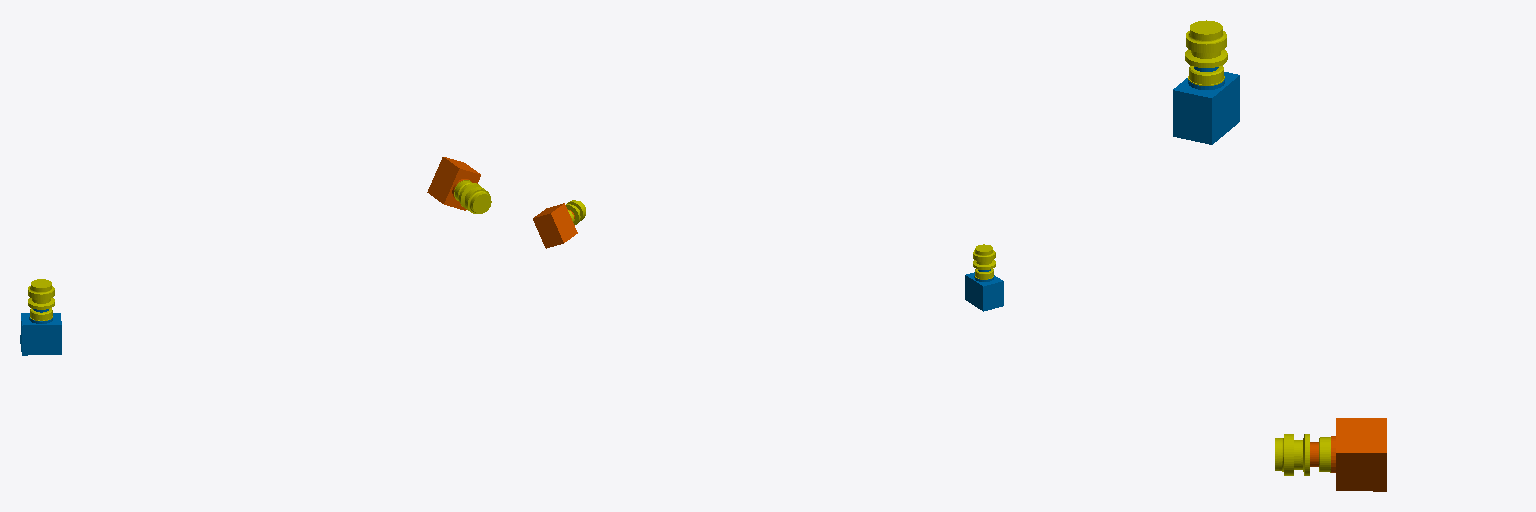
robot.urdf — Krang:
<?xml version="1.0" ?>
<!-- @file Krang.urdf -->
<!-- @author [author] -->
<!-- @date May 10, 2013 -->
<!-- @brief This file contains the .urdf definition for Krang. -->
<!-- NOTE: The center of mass locations are taken from the MassTable by summing up the -->
<!-- individual part values for the sections (which correspond to nodes here). -->
<!-- TODO: Set the center of mass locations -->
<!-- TODO: Set the correct masses. Note that the dae models have the brackets divided in two and -->
<!-- connected to the middle motor for which we do not have measurements. -->
<!-- NOTE: The bounding box values are taken by finding the min and max values of the dae files. -->

<robot name="Krang">

	<!-- Links -->

	<link name = "LWheel"> 
    <inertial>
      <mass value="4.66"/>
      <inertia ixx="0.102019" ixy="2.45462e-05" ixz="0.00713022" iyy="0.0832724" iyz="-0.00131733" izz="0.086493"/>
      <origin xyz="0 0 0"/>
    </inertial>
		<visual> <geometry> <mesh filename="Base/oldwheel.dae" /> </geometry> </visual> 
		<collision> <geometry> <mesh filename="Base/oldwheel.dae" /> </geometry> </collision> 
	</link>

	<link name = "RWheel"> 
    <inertial>
      <mass value="4.66"/>
      <inertia ixx="0.102019" ixy="2.45462e-05" ixz="0.00713022" iyy="0.0832724" iyz="-0.00131733" izz="0.086493"/>
      <origin xyz="0 0 0"/>
    </inertial>
		<visual> <geometry> <mesh filename="Base/oldwheel.dae" /> </geometry> </visual> 
		<collision> <geometry> <mesh filename="Base/oldwheel.dae" /> </geometry> </collision> 
	</link>

	<link name = "Base"> 
    <inertial>
      <mass value="81.856"/>
      <inertia ixx="0.102019" ixy="2.45462e-05" ixz="0.00713022" iyy="0.0832724" iyz="-0.00131733" izz="0.086493"/>
      <origin xyz="-0.00336451 0.107572 -0.00636184"/>
    </inertial>
		<visual> <geometry> <mesh filename="base.dae" /> </geometry> </visual> 
		<collision> <origin xyz="0.00225 0.2097395 0.006300"/> <geometry> <box size="0.7165 0.71048 0.32860"/> </geometry> </collision> 
	</link>

	<link name = "Spine"> 
    <inertial>
      <mass value="10.302"/>
      <inertia ixx="0.102019" ixy="2.45462e-05" ixz="0.00713022" iyy="0.0832724" iyz="-0.00131733" izz="0.086493"/>
			<!-- an offset of -0.02937 is added due to bad dae file and to align with base com -->
      <origin xyz="-0.02937 0.285314 0.0974926"/>
    </inertial>
		<visual> <geometry> <mesh filename="spine.dae" /> </geometry> </visual> 
		<collision> <origin xyz="-0.026 0.230150 0.053887"/> <geometry> <box size="0.2340 0.59430 0.24097"/> </geometry> </collision> 
	</link>

	<link name = "Bracket"> 
    <inertial>
      <mass value="10.17"/>
      <inertia ixx="0.102019" ixy="2.45462e-05" ixz="0.00713022" iyy="0.0832724" iyz="-0.00131733" izz="0.086493"/>
			<!-- offseted with 0.0827 because the origin of the bracket is at the bottom -->
      <origin xyz="0 0.080606 -0.00314267"/>
    </inertial>
		<visual> <geometry> <mesh filename="bracket.dae" /> </geometry> </visual> 
		<collision> <origin xyz="0.0012875 0.0582 -0.0280530"/> <geometry> <box size="0.2815 0.23 0.22611"/> </geometry> </collision> 
	</link>

	<link name = "Kinect"> 
    <inertial>
      <mass value="0.705"/>
      <inertia ixx="0.102019" ixy="2.45462e-05" ixz="0.00713022" iyy="0.0832724" iyz="-0.00131733" izz="0.086493"/>
      <origin xyz="0.0 -0.04 -0.028"/>
    </inertial>
		<visual> <geometry> <mesh filename="Kinect/Kinect.dae" /> </geometry> </visual> 
		<collision> <origin xyz="0.0 -0.0251 -0.0185"/> <geometry> <box size="0.28 0.07 0.063"/> </geometry> </collision> 
	</link>

	<link name = "L1"> 
    <inertial>
      <mass value="3.836"/>
      <inertia ixx="0.102019" ixy="2.45462e-05" ixz="0.00713022" iyy="0.0832724" iyz="-0.00131733" izz="0.086493"/>
      <origin xyz="0.0063626 -0.00725706 0"/>
    </inertial>
		<visual> <geometry> <mesh filename="Schunk/L1.dae" /> </geometry> </visual> 
		<collision> <origin xyz="0.015 -0.080866 0.0"/> <geometry> <box size="0.16 0.29367 0.13188"/> </geometry> </collision> 
	</link>

	<link name = "L2"> 
    <inertial>
      <mass value="2.385"/>
      <inertia ixx="0.102019" ixy="2.45462e-05" ixz="0.00713022" iyy="0.0832724" iyz="-0.00131733" izz="0.086493"/>
      <origin xyz="0.0101136 -0.15332 0"/>
    </inertial>
		<visual> <geometry> <mesh filename="Schunk/L2.dae" /> </geometry> </visual> 
		<collision> <origin xyz="0.017042 -0.058309 0.0"/> <geometry> <box size="0.14591 0.24658 0.13"/> </geometry> </collision> 
	</link>

	<link name = "L3"> 
    <inertial>
      <mass value="2.306"/>
      <inertia ixx="0.102019" ixy="2.45462e-05" ixz="0.00713022" iyy="0.0832724" iyz="-0.00131733" izz="0.086493"/>
      <origin xyz="0.0071222 -0.00803823 0"/>
    </inertial>
		<visual> <geometry> <mesh filename="Schunk/L3.dae" /> </geometry> </visual> 
		<collision> <origin xyz="0.014000 -0.075113 0.0"/> <geometry> <box size="0.13800 0.26217 0.11189"/> </geometry> </collision> 
	</link>

	<link name = "L4"> 
    <inertial>
      <mass value="1.477"/>
      <inertia ixx="0.102019" ixy="2.45462e-05" ixz="0.00713022" iyy="0.0832724" iyz="-0.00131733" izz="0.086493"/>
      <origin xyz="0.0115211 -0.1255 0"/>
    </inertial>
		<visual> <geometry> <mesh filename="Schunk/L4.dae" /> </geometry> </visual> 
		<collision> <origin xyz="0.018200 -0.052050 0.0"/> <geometry> <box size="0.12960 0.2141 0.11"/> </geometry> </collision> 
	</link>

	<link name = "L5"> 
    <inertial>
      <mass value="1.369"/>
      <inertia ixx="0.102019" ixy="2.45462e-05" ixz="0.00713022" iyy="0.0832724" iyz="-0.00131733" izz="0.086493"/>
      <origin xyz="0.00705037 -0.00747172 0"/>
    </inertial>
		<visual> <geometry> <mesh filename="Schunk/L5.dae" /> </geometry> </visual> 
		<collision> <origin xyz="0.0145115 -0.0571105 0.0000425"/> <geometry> <box size="0.117977 0.204179 0.089915"/> </geometry> </collision> 
	</link>

	<link name = "L6"> 
    <inertial>
      <mass value="1.47"/>
      <inertia ixx="0.102019" ixy="2.45462e-05" ixz="0.00713022" iyy="0.0832724" iyz="-0.00131733" izz="0.086493"/>
      <origin xyz="0.0105523 -0.117163 0"/>
    </inertial>
		<visual> <geometry> <mesh filename="Schunk/L6.dae" /> </geometry> </visual> 
		<collision> <origin xyz="0.0175015 -0.0481615 0.0"/> <geometry> <box size="0.111977 0.185277 0.089"/> </geometry> </collision> 
	</link>

	<link name = "lGripper"> 
    <inertial>
      <mass value="2.3"/>
      <inertia ixx="0.102019" ixy="2.45462e-05" ixz="0.00713022" iyy="0.0832724" iyz="-0.00131733" izz="0.086493"/>
			<!-- An addition of 4.05 cms from the end of Schunk gripper to space between two halves of ft -->
      <origin xyz="0 0 0.1055"/>
    </inertial>
		<visual> <geometry> <mesh filename="Schunk/L7.dae" /> </geometry> </visual> 
		<collision> <origin xyz="0.0 -0.0 0.02615" rpy="0.0 0.0 1.5708"/> <geometry> <box size="0.08 0.112 0.2025"/> </geometry> </collision> 
	</link>

	<link name = "lgPlate1">
    <inertial> 
      <inertia ixx="0.102019" ixy="2.45462e-05" ixz="0.00713022" iyy="0.0832724" iyz="-0.00131733" izz="0.086493"/>
			<mass value="0.0001"/> </inertial>
		<visual> <geometry> <mesh filename="Schunk/gripperPlate.dae" /> </geometry> </visual>
	</link> 	

	<link name = "lgPlate2">
    <inertial> 
      <inertia ixx="0.102019" ixy="2.45462e-05" ixz="0.00713022" iyy="0.0832724" iyz="-0.00131733" izz="0.086493"/>
			<mass value="0.0001"/> </inertial>
		<visual> <geometry> <mesh filename="Schunk/gripperPlate.dae" /> </geometry> </visual>
	</link> 	

	<link name = "R1"> 
    <inertial>
      <mass value="3.836"/>
      <inertia ixx="0.102019" ixy="2.45462e-05" ixz="0.00713022" iyy="0.0832724" iyz="-0.00131733" izz="0.086493"/>
      <origin xyz="0.0063626 -0.00725706 0"/>
    </inertial>
		<visual> <geometry> <mesh filename="Schunk/L1.dae" /> </geometry> </visual> 
		<collision> <origin xyz="0.015 -0.080866 0.0"/> <geometry> <box size="0.16 0.29367 0.13188"/> </geometry> </collision> 
	</link>

	<link name = "R2"> 
    <inertial>
      <mass value="2.385"/>
      <inertia ixx="0.102019" ixy="2.45462e-05" ixz="0.00713022" iyy="0.0832724" iyz="-0.00131733" izz="0.086493"/>
      <origin xyz="0.0101136 -0.15332 0"/>
    </inertial>
		<visual> <geometry> <mesh filename="Schunk/L2.dae" /> </geometry> </visual> 
		<collision> <origin xyz="0.017042 -0.058309 0.0"/> <geometry> <box size="0.14591 0.24658 0.13"/> </geometry> </collision> 
	</link>

	<link name = "R3"> 
    <inertial>
      <mass value="2.306"/>
      <inertia ixx="0.102019" ixy="2.45462e-05" ixz="0.00713022" iyy="0.0832724" iyz="-0.00131733" izz="0.086493"/>
      <origin xyz="0.0071222 -0.00803823 0"/>
    </inertial>
		<visual> <geometry> <mesh filename="Schunk/L3.dae" /> </geometry> </visual> 
		<collision> <origin xyz="0.014000 -0.075113 0.0"/> <geometry> <box size="0.13800 0.26217 0.11189"/> </geometry> </collision> 
	</link>

	<link name = "R4"> 
    <inertial>
      <mass value="1.477"/>
      <inertia ixx="0.102019" ixy="2.45462e-05" ixz="0.00713022" iyy="0.0832724" iyz="-0.00131733" izz="0.086493"/>
      <origin xyz="0.0115211 -0.1255 0"/>
    </inertial>
		<visual> <geometry> <mesh filename="Schunk/L4.dae" /> </geometry> </visual> 
		<collision> <origin xyz="0.018200 -0.052050 0.0"/> <geometry> <box size="0.12960 0.2141 0.11"/> </geometry> </collision> 
	</link>

	<link name = "R5"> 
    <inertial>
      <mass value="1.369"/>
      <inertia ixx="0.102019" ixy="2.45462e-05" ixz="0.00713022" iyy="0.0832724" iyz="-0.00131733" izz="0.086493"/>
      <origin xyz="0.00705037 -0.00747172 0"/>
    </inertial>
		<visual> <geometry> <mesh filename="Schunk/L5.dae" /> </geometry> </visual> 
		<collision> <origin xyz="0.0145115 -0.0571105 0.0000425"/> <geometry> <box size="0.117977 0.204179 0.089915"/> </geometry> </collision> 
	</link>

	<link name = "R6"> 
    <inertial>
      <mass value="1.47"/>
      <inertia ixx="0.102019" ixy="2.45462e-05" ixz="0.00713022" iyy="0.0832724" iyz="-0.00131733" izz="0.086493"/>
      <origin xyz="0.0105523 -0.117163 0"/>
    </inertial>
		<visual> <geometry> <mesh filename="Schunk/L6.dae" /> </geometry> </visual> 
		<collision> <origin xyz="0.0175015 -0.0481615 0.0"/> <geometry> <box size="0.111977 0.185277 0.089"/> </geometry> </collision> 
	</link>

	<link name = "rGripper"> 
    <inertial>
      <mass value="2.3"/>
      <inertia ixx="0.102019" ixy="2.45462e-05" ixz="0.00713022" iyy="0.0832724" iyz="-0.00131733" izz="0.086493"/>
			<!-- An addition of 4.05 cms from the end of Schunk gripper to space between two halves of ft -->
      <origin xyz="0 0 0.1055"/>
    </inertial>
		<visual> <geometry> <mesh filename="Schunk/L7.dae" /> </geometry> </visual> 
		<collision> <origin xyz="0.0 -0.0 0.02615" rpy="0.0 0.0 1.5708"/> <geometry> <box size="0.08 0.112 0.2025"/> </geometry> </collision> 
	</link>

	<link name = "rgPlate1">
    <inertial> 
      <inertia ixx="0.102019" ixy="2.45462e-05" ixz="0.00713022" iyy="0.0832724" iyz="-0.00131733" izz="0.086493"/>
			<mass value="0.0001"/> </inertial>
		<visual> <geometry> <mesh filename="Schunk/gripperPlate.dae" /> </geometry> </visual>
	</link> 	

	<link name = "rgPlate2">
    <inertial> 
      <inertia ixx="0.102019" ixy="2.45462e-05" ixz="0.00713022" iyy="0.0832724" iyz="-0.00131733" izz="0.086493"/>
			<mass value="0.0001"/> </inertial>
		<visual> <geometry> <mesh filename="Schunk/gripperPlate.dae" /> </geometry> </visual>
	</link> 	


	<!-- ======================================================================================================== -->
	<!-- ============================================ Joints ==================================================== -->
	<!-- ======================================================================================================== -->

	<joint name="JLWheel" type="revolute"> <parent link="Base" /> <child link="LWheel" />
		<origin xyz = "-0.354 0.0 0" rpy="0 0 0" />
		<axis xyz="1 0 0" /> <limit effort="1000" lower="-3.1416" upper="3.1416" velocity="0.1" />
	</joint>

	<joint name="JRWheel" type="revolute"> <parent link="Base" /> <child link="RWheel" />
		<origin xyz = "0.361 0.0 0" rpy="0 0 0" />
		<axis xyz="1 0 0" /> <limit effort="1000" lower="-3.1416" upper="3.1416" velocity="0.1" />
	</joint>

	<joint name="JWaist" type="revolute"> <parent link="Base" /> <child link="Spine" />
		<origin xyz = "0.026 0.499 -0.091" rpy="0 0 0" />
		<axis xyz="-1 0 0" /> <limit effort="1000" lower="0" upper="2.7" velocity="0.1" />
	</joint>

	<joint name="JTorso" type="revolute"> <parent link="Spine" /> <child link="Bracket" />
		<origin xyz = "-0.0285 0.584 0.1088" rpy="0 3.1416 0" /> 
		<axis xyz="0 -1 0" /> <limit effort="1000" lower="-0.8" upper="0.8" velocity="0.1" />
	</joint>

	<joint name="JKinect" type="revolute"> <parent link="Bracket" /> <child link="Kinect" />
		<origin xyz = "-0.001 0.1805 -0.1120" rpy="3.1416 0 0" />
		<axis xyz="1 0 0" /> <limit effort="1000" lower="-3.1416" upper="3.1416" velocity="0.1" />
	</joint>

	<joint name="LJ1" type="revolute"> <parent link="Bracket" /> <child link="L1" />
		<origin xyz = "0.2823 0.0845 0" rpy="0 3.1416 -1.5708" />
		<axis xyz="0 -1 0" /> <limit effort="1000" lower="-3.1416" upper="3.1416" velocity="0.1" />
	</joint>

	<joint name="LJ2" type="revolute"> <parent link="L1" /> <child link="L2" />
		<origin xyz="0 0.0 0" rpy="3.14 3.14 0" />
		<axis xyz="-1 0 0" /> <limit effort="1000" lower="-2.094" upper="2.094" velocity="0.1" />
	</joint>

	<joint name="LJ3" type="revolute"> <parent link="L2" /> <child link="L3" />
		<origin xyz="0 -0.328 0" rpy="-3.1416 -3.1416 0" />
		<axis xyz="0 -1 0" /> <limit effort="1000" lower="-4.7124" upper="4.7124" velocity="0.1" />
	</joint>

	<joint name="LJ4" type="revolute"> <parent link="L3" /> <child link="L4" />
		<origin xyz="0 0 0" rpy="3.1416 3.1416 0" />
		<axis xyz="-1 0 0" /> <limit effort="1000" lower="-2.094" upper="2.094" velocity="0.1" />
	</joint>

	<joint name="LJ5" type="revolute"> <parent link="L4" /> <child link="L5" />
		<origin xyz="0 -0.2765 0" rpy="4.7124 4.7124 0" />
		<axis xyz="0 -1 0" /> <limit effort="1000" lower="-4.7124" upper="4.7124" velocity="0.1" />
	</joint>

	<joint name="LJ6" type="revolute"> <parent link="L5" /> <child link="L6" />
		<origin xyz="0 0 0" rpy="4.7124 4.7124 0" />
		<axis xyz="-1 0 0" /> <limit effort="1000" lower="-2.094" upper="2.094" velocity="0.1" />
	</joint>

	<!-- For some reason, I had to negate the axis to make sure the motor turns like the others -->
	<joint name="LJFT" type="revolute"> <parent link="L6" /> <child link="lGripper" />
		<origin xyz="0 -0.200 0" rpy="1.5708 4.7124 0" />
		<axis xyz="0 0 -1" /> <limit effort="1000" lower="-4.7124" upper="4.7124" velocity="0.1" />
	</joint>

	<joint name="LMotorPlate1" type="fixed"> <parent link="lGripper" /> <child link="lgPlate1" />
		<origin xyz="-0.045 0.0 0.127" rpy="3.1416 0 0" />
		<axis xyz="1 0 0" /> <limit effort="1000" lower="0.0" upper="0.022" velocity="0.1" />
	</joint>

	<joint name="LMotorPlate2" type="fixed"> <parent link="lGripper" /> <child link="lgPlate2" />
		<origin xyz="0.045 0.000 0.127" rpy="3.1416 0 3.1416" />
		<axis xyz="1 0 0" /> <limit effort="1000" lower="0.0" upper="0.022" velocity="0.1" />
	</joint>

	<!-- Right arm -->

	<joint name="RJ1" type="revolute"> <parent link="Bracket" /> <child link="R1" />
		<origin xyz = "-0.2823 0.0845 0" rpy="0 0 1.5708" />
		<axis xyz="0 -1 0" /> <limit effort="1000" lower="-4.7124" upper="4.7124" velocity="0.1" />
	</joint>

	<joint name="RJ2" type="revolute"> <parent link="R1" /> <child link="R2" />
		<origin xyz="0 0.0 0" rpy="3.14 3.14 0" />
		<axis xyz="-1 0 0" /> <limit effort="1000" lower="-2.094" upper="2.094" velocity="0.1" />
	</joint>

	<joint name="RJ3" type="revolute"> <parent link="R2" /> <child link="R3" />
		<origin xyz="0 -0.328 0" rpy="-4.7124 -4.7124 0" />
		<axis xyz="0 -1 0" /> <limit effort="1000" lower="-4.7124" upper="4.7124" velocity="0.1" />
	</joint>

	<joint name="RJ4" type="revolute"> <parent link="R3" /> <child link="R4" />
		<origin xyz="0 0 0" rpy="4.7124 4.7124 0" />
		<axis xyz="-1 0 0" /> <limit effort="1000" lower="-2.094" upper="2.094" velocity="0.1" />
	</joint>

	<joint name="RJ5" type="revolute"> <parent link="R4" /> <child link="R5" />
		<origin xyz="0 -0.2765 0" rpy="4.7124 4.7124 0" />
		<axis xyz="0 -1 0" /> <limit effort="1000" lower="-4.7124" upper="4.7124" velocity="0.1" />
	</joint>

	<joint name="RJ6" type="revolute"> <parent link="R5" /> <child link="R6" />
		<origin xyz="0 0 0" rpy="4.7124 4.7124 0" />
		<axis xyz="-1 0 0" /> <limit effort="1000" lower="-2.094" upper="2.094" velocity="0.1" />
	</joint>

	<joint name="RJFT" type="revolute"> <parent link="R6" /> <child link="rGripper" />
		<origin xyz="0 -0.200 0" rpy="1.5708 4.7124 0" />
		<axis xyz="0 0 -1" /> <limit effort="1000" lower="-4.7124" upper="4.7124" velocity="0.1" />
	</joint>

	<joint name="RMotorPlate1" type="fixed"> <parent link="rGripper" /> <child link="rgPlate1" />
		<origin xyz="-0.045 0.0 0.127" rpy="3.1416 0 0" />
		<axis xyz="1 0 0" /> <limit effort="1000" lower="0.0" upper="0.022" velocity="0.1" />
	</joint>

	<joint name="RMotorPlate2" type="fixed"> <parent link="rGripper" /> <child link="rgPlate2" />
		<origin xyz="0.045 0.000 0.127" rpy="3.1416 0 3.1416" />
		<axis xyz="1 0 0" /> <limit effort="1000" lower="0.0" upper="0.022" velocity="0.1" />
	</joint>

</robot>

--- Facts derived from the render (not from the file) ---
The picture shows the robot from 3 angles, left to right: view 1: azimuth 30°, elevation 25°; view 2: azimuth 150°, elevation 25°; view 3: azimuth 270°, elevation 25°; orthographic projection.
Robot: Krang — 24 links, 23 joints (19 revolute, 4 fixed); root link Base; default pose: all joints at 0.
Visible links, largest first — view 1: lGripper, rGripper; view 2: lGripper, rGripper; view 3: lGripper, rGripper.
Boxes of the visible links, x1,y1,x2,y2 form: lGripper: (20,279,61,355); rGripper: (427,157,491,213); lGripper: (965,244,1003,311); rGripper: (533,200,585,248); lGripper: (1173,20,1239,144); rGripper: (1275,418,1386,491).
Bounding box of the posed robot: 1.63 × 0.3878 × 0.2218 m (x, y, z).
Meshes: 13 distinct files referenced, 2 mesh visuals loaded (1 Collada DAE); not drawn: 21 (reference not matched to a file when rendering), 1 (file found but could not be loaded).